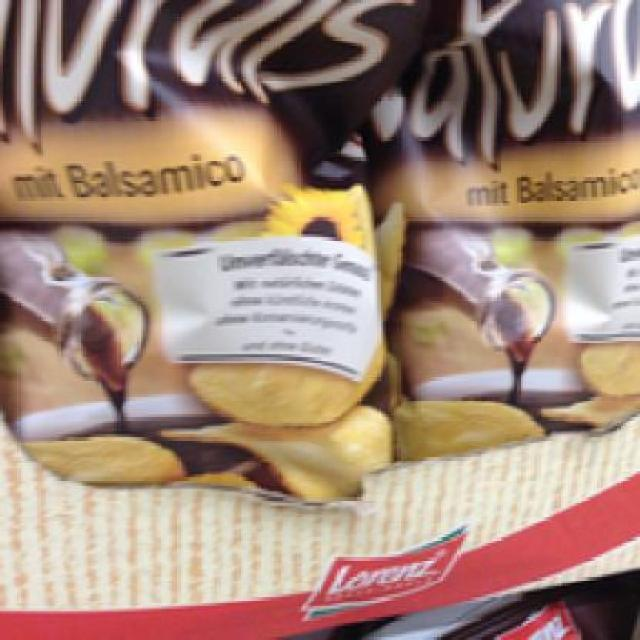Chips: (0, 0, 406, 463), (374, 0, 637, 457)
